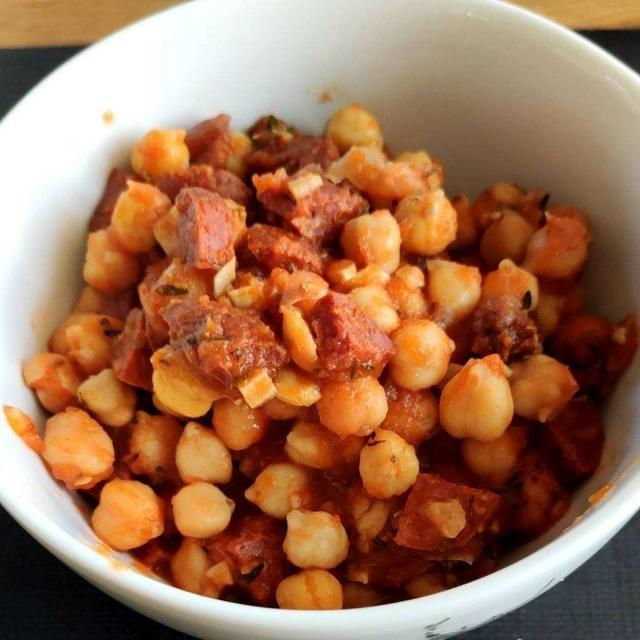chickpeas: (31, 99, 575, 627)
